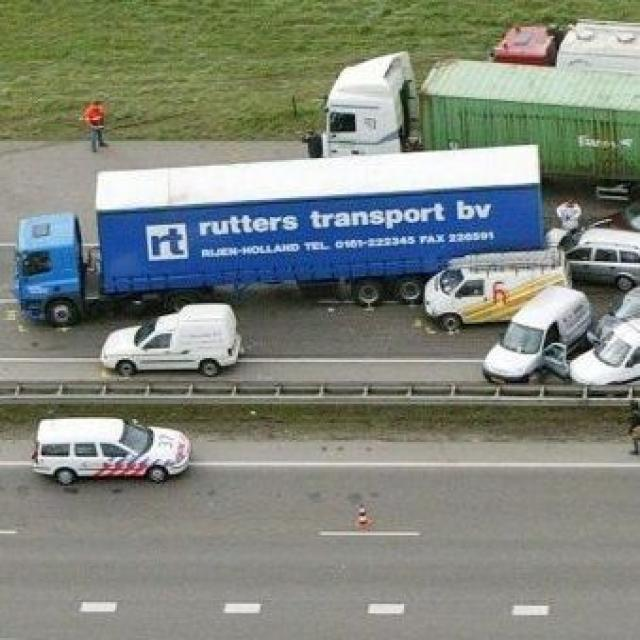traffic_incident: (378, 149, 638, 356)
